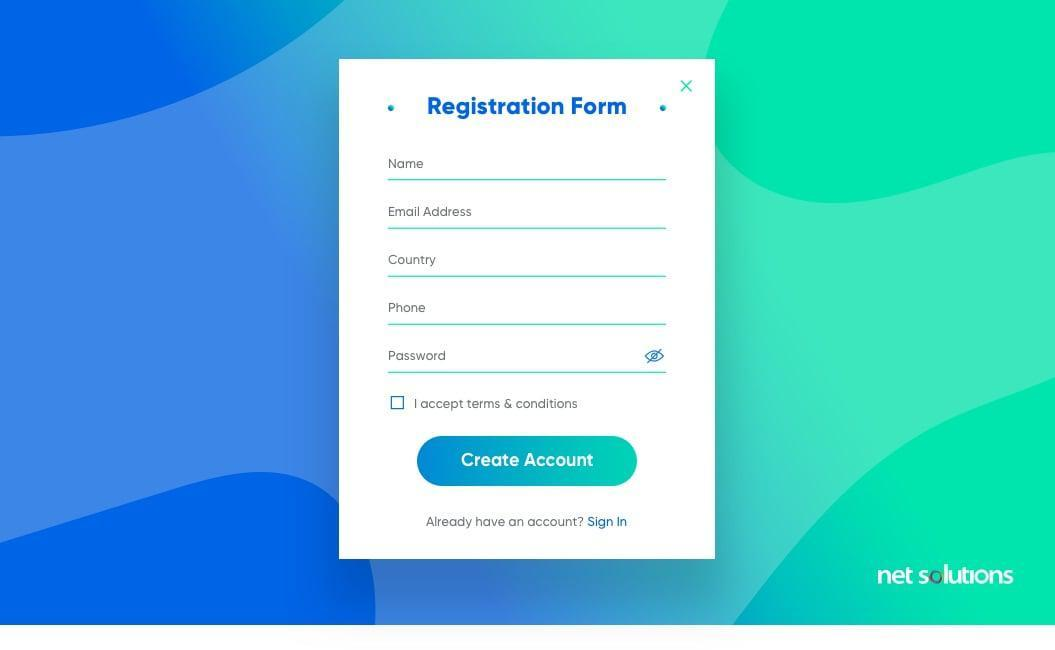button: (417, 436, 640, 488)
checkbox: (391, 396, 406, 410)
icon: (645, 346, 666, 366), (679, 79, 696, 95)
label: (414, 398, 580, 414)
